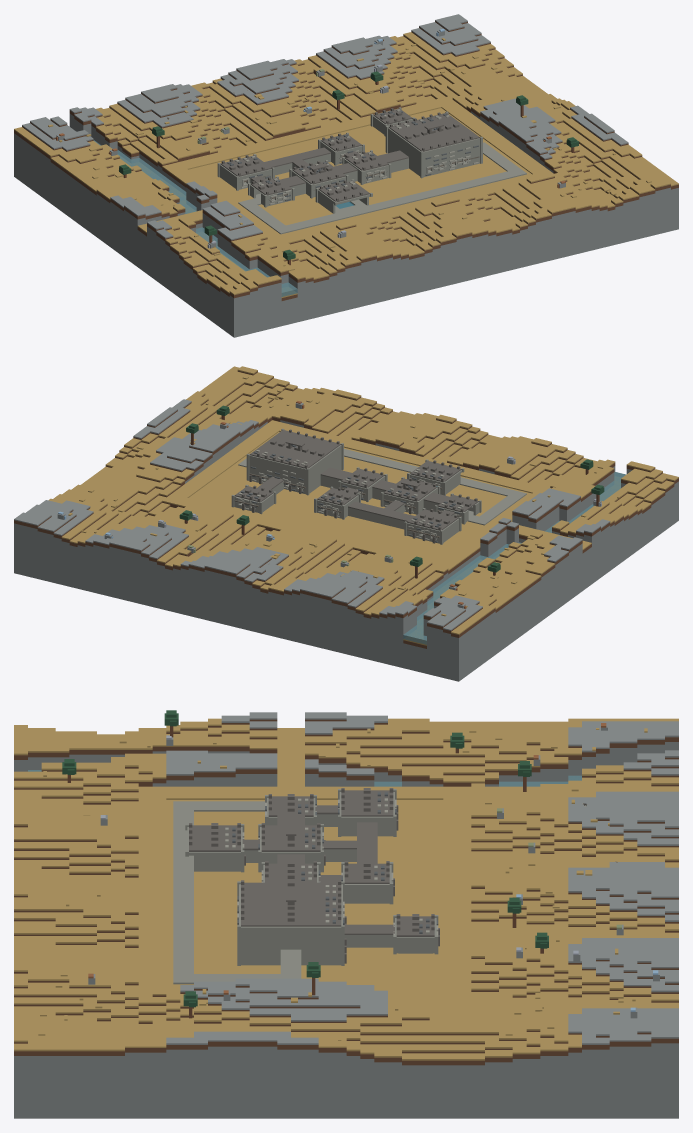
The model's file is ridge.glb.
3 renders of one model, top to bottom at view 1: azimuth 30°, elevation 25°; view 2: azimuth 150°, elevation 25°; view 3: azimuth 270°, elevation 25°, orthographic. The views are drawn at different scales.
Parts seen in each view (by area): view 1: ridge/surface, ridge/terrain, ridge/ridge_dungeon/room_walls, ridge/ridge_dungeon/floor_mesh, ridge/ridge_dungeon/exterior_details, ridge/ridge_dungeon/roof_arena, ridge/vegetation, ridge/watercourses, ridge/outcrops, ridge/ridge_dungeon/corridor_walls, ridge/ridge_dungeon/roof_workshop, ridge/ridge_dungeon/roof_production (+2 smaller); view 2: ridge/surface, ridge/terrain, ridge/ridge_dungeon/room_walls, ridge/ridge_dungeon/exterior_details, ridge/ridge_dungeon/roof_arena, ridge/vegetation, ridge/ridge_dungeon/floor_mesh, ridge/watercourses, ridge/ridge_dungeon/corridor_walls, ridge/outcrops, ridge/ridge_dungeon/roof_workshop, ridge/ridge_dungeon/roof_production (+2 smaller); view 3: ridge/surface, ridge/terrain, ridge/ridge_dungeon/room_walls, ridge/ridge_dungeon/floor_mesh, ridge/ridge_dungeon/roof_arena, ridge/vegetation, ridge/ridge_dungeon/exterior_details, ridge/ridge_dungeon/roof_workshop, ridge/ridge_dungeon/corridor_walls, ridge/ridge_dungeon/roof_production, ridge/ridge_dungeon/roof_cistern, ridge/outcrops (+5 smaller).
Part boxes in pixels (x1,y1,x2,y2): ridge/surface: [14, 14, 678, 297]; ridge/terrain: [14, 21, 678, 337]; ridge/ridge_dungeon/room_walls: [219, 116, 480, 213]; ridge/ridge_dungeon/floor_mesh: [238, 142, 526, 234]; ridge/ridge_dungeon/exterior_details: [217, 107, 482, 207]; ridge/ridge_dungeon/roof_arena: [389, 112, 479, 151]; ridge/vegetation: [48, 38, 651, 271]; ridge/watercourses: [93, 140, 297, 296]; ridge/outcrops: [56, 29, 565, 248]; ridge/ridge_dungeon/corridor_walls: [250, 153, 408, 196]; ridge/ridge_dungeon/roof_workshop: [292, 161, 345, 184]; ridge/ridge_dungeon/roof_production: [220, 155, 271, 176]; ridge/surface: [14, 366, 678, 645]; ridge/terrain: [14, 371, 678, 681]; ridge/ridge_dungeon/room_walls: [234, 445, 479, 543]; ridge/ridge_dungeon/exterior_details: [231, 428, 481, 544]; ridge/ridge_dungeon/roof_arena: [250, 429, 340, 468]; ridge/vegetation: [68, 376, 621, 616]; ridge/ridge_dungeon/floor_mesh: [238, 449, 526, 535]; ridge/watercourses: [403, 472, 625, 644]; ridge/ridge_dungeon/corridor_walls: [272, 475, 454, 529]; ridge/outcrops: [57, 401, 601, 608]; ridge/ridge_dungeon/roof_workshop: [384, 478, 436, 501]; ridge/ridge_dungeon/roof_production: [407, 509, 458, 530]; ridge/surface: [14, 712, 678, 1060]; ridge/terrain: [14, 719, 678, 1118]; ridge/ridge_dungeon/room_walls: [187, 792, 436, 965]; ridge/ridge_dungeon/floor_mesh: [173, 801, 432, 984]; ridge/ridge_dungeon/roof_arena: [241, 880, 341, 926]; ridge/vegetation: [38, 710, 647, 1040]; ridge/ridge_dungeon/exterior_details: [185, 789, 439, 965]; ridge/ridge_dungeon/roof_workshop: [261, 822, 320, 851]; ridge/ridge_dungeon/corridor_walls: [244, 814, 393, 947]; ridge/ridge_dungeon/roof_production: [341, 788, 393, 816]; ridge/ridge_dungeon/roof_cistern: [189, 823, 240, 851]; ridge/outcrops: [88, 723, 659, 1018].
Bounding box in the file's own units: 224 × 35.5 × 192.
